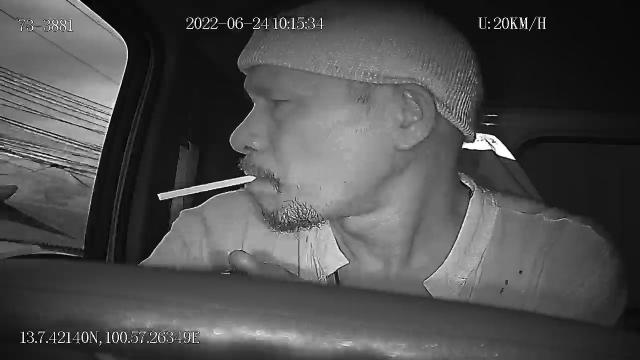Cigarette: (158, 173, 258, 201)
